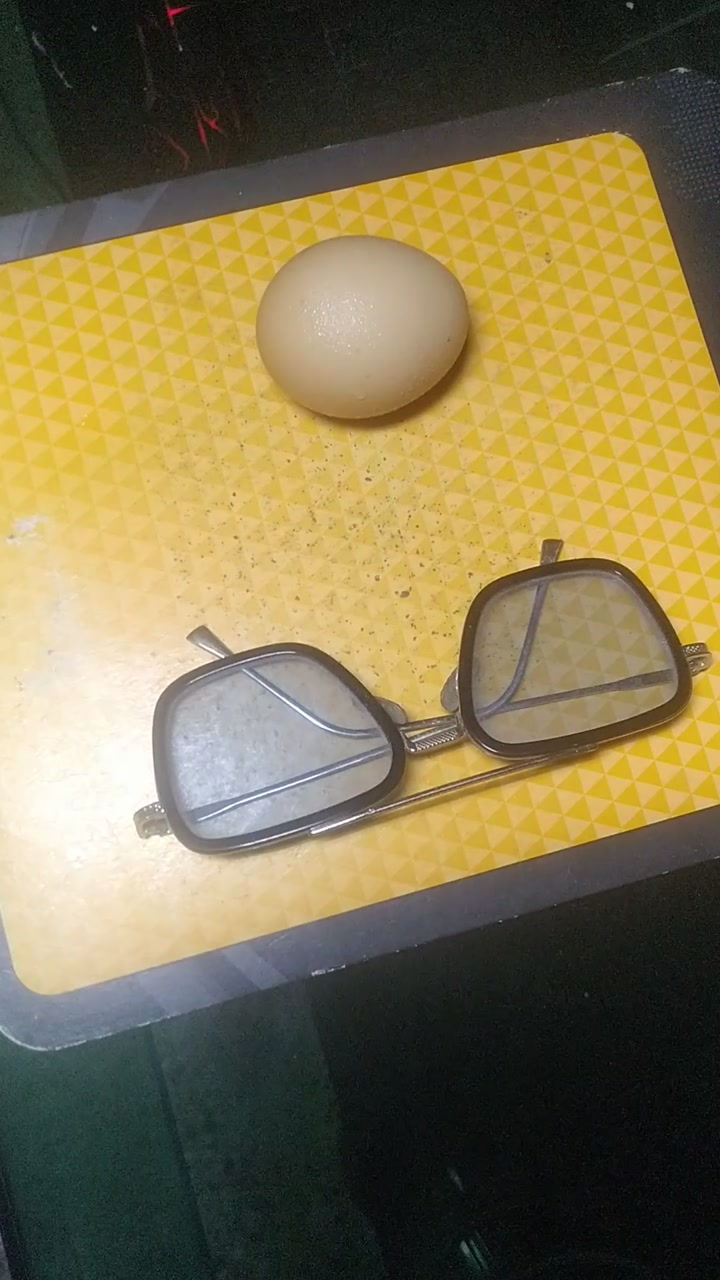egg: (243, 230, 477, 427)
sunglass: (128, 527, 717, 861)
